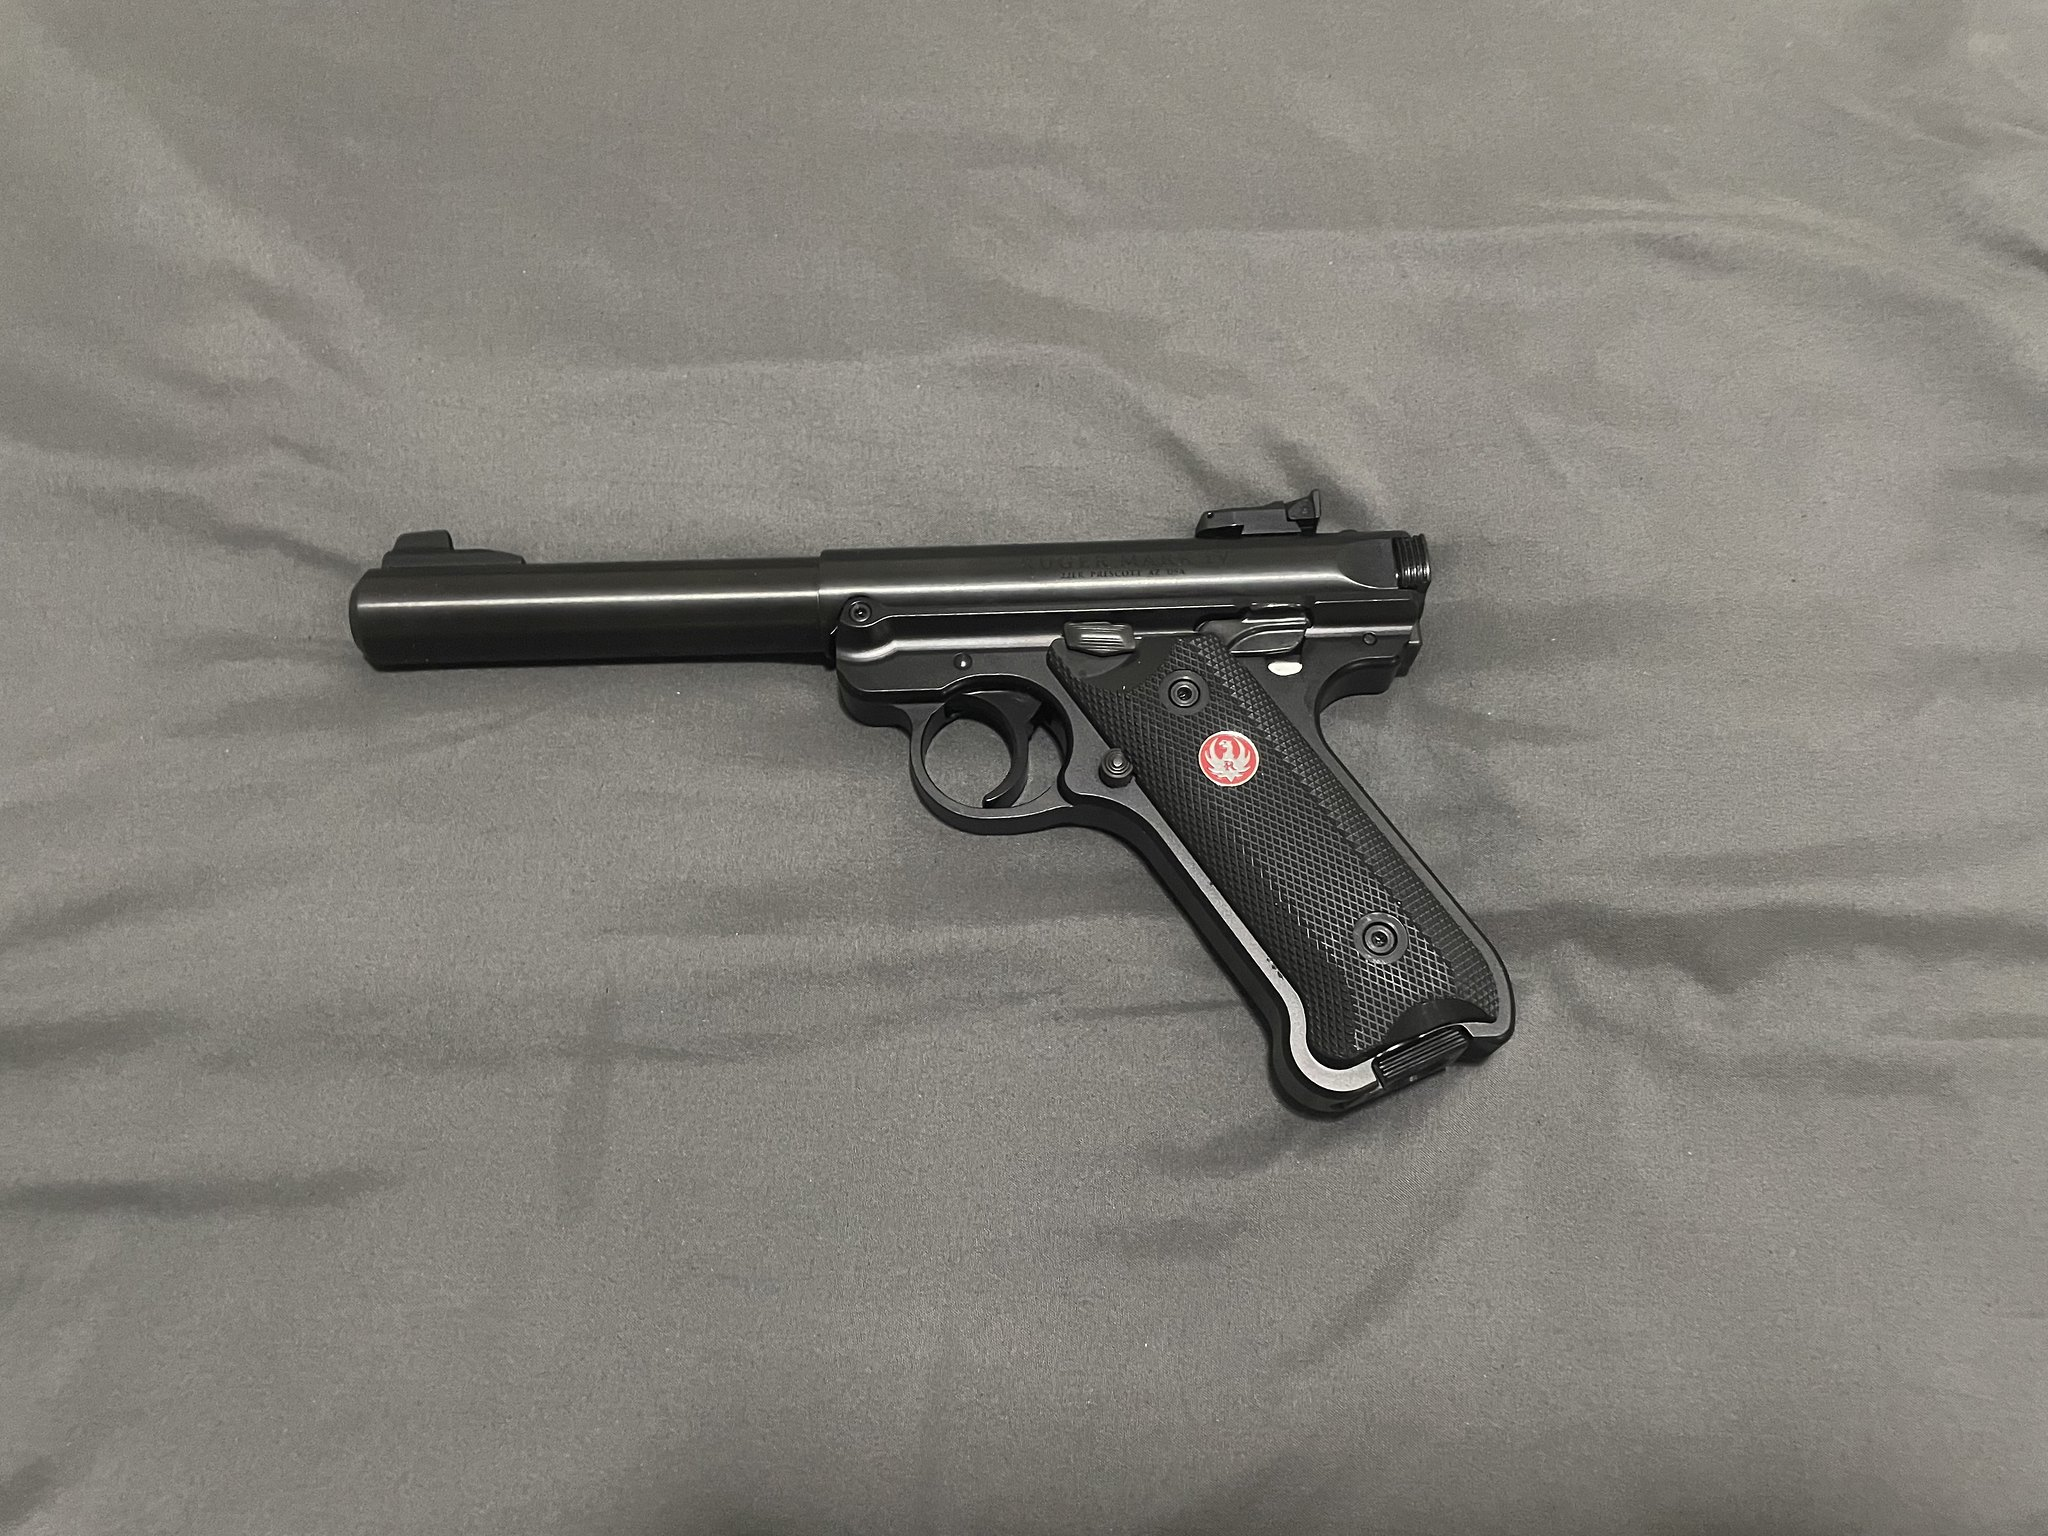gun: (331, 476, 1550, 1179)
